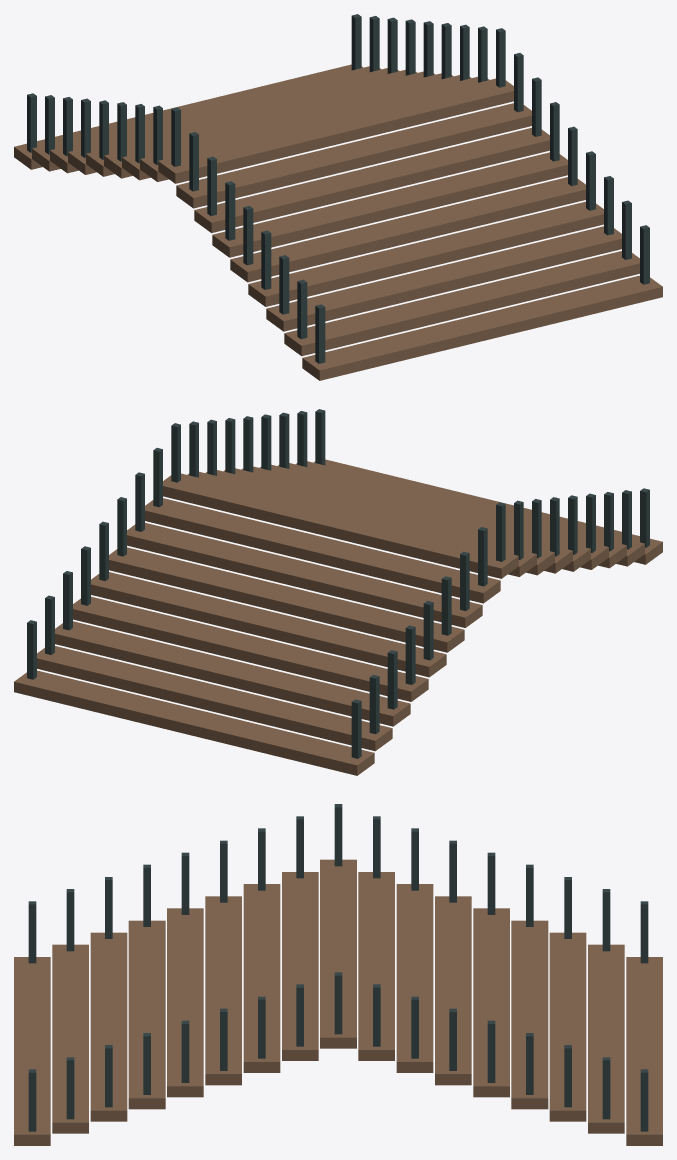
File: works_bridge.glb
3 views of the same model, one above another, from view 1: azimuth 30°, elevation 25°; view 2: azimuth 150°, elevation 25°; view 3: azimuth 270°, elevation 25° (orthographic). The views are drawn at different scales.
Parts seen in each view (by area): view 1: slat, slat.001, slat.005, slat.008, slat.004, slat.006, slat.007, slat.002, slat.003, slat.009, slat.010, slat.011 (+39 smaller); view 2: slat.016, slat.015, slat.008, slat.011, slat.009, slat.010, slat.012, slat.014, slat.013, slat.007, slat.006, slat.005 (+39 smaller); view 3: slat.002, slat.003, slat.013, slat.014, slat.006, slat.010, slat.001, slat.005, slat.008, slat.011, slat.015, slat.004 (+35 smaller).
Boxes of the visible parts, x1,y1,x2,y2 form: slat: (302,275,662,380); slat.001: (284,251,639,356); slat.005: (212,152,567,257); slat.008: (158,78,513,183); slat.004: (230,177,585,282); slat.006: (194,127,549,232); slat.007: (176,103,531,208); slat.002: (266,226,621,331); slat.003: (248,201,603,306); slat.009: (140,76,489,181); slat.010: (122,75,471,180); slat.011: (104,73,453,178); slat.016: (14,670,374,775); slat.015: (37,646,392,751); slat.008: (163,473,518,578); slat.011: (109,547,464,652); slat.009: (145,498,500,603); slat.010: (127,522,482,627); slat.012: (91,572,446,677); slat.014: (55,621,410,726); slat.013: (73,596,428,701); slat.007: (187,471,536,576); slat.006: (205,470,554,575); slat.005: (223,468,572,573); slat.002: (90,932,127,1121); slat.003: (128,920,165,1109); slat.013: (511,920,548,1109); slat.014: (549,932,586,1121); slat.006: (243,884,280,1072); slat.010: (396,884,433,1072); slat.001: (52,944,88,1133); slat.005: (205,896,241,1085); slat.008: (320,859,356,1048); slat.011: (435,896,471,1085); slat.015: (588,944,624,1133); slat.004: (167,908,203,1097).
Bounding box in the file's own units: 5.5 × 2.41 × 8.48.
